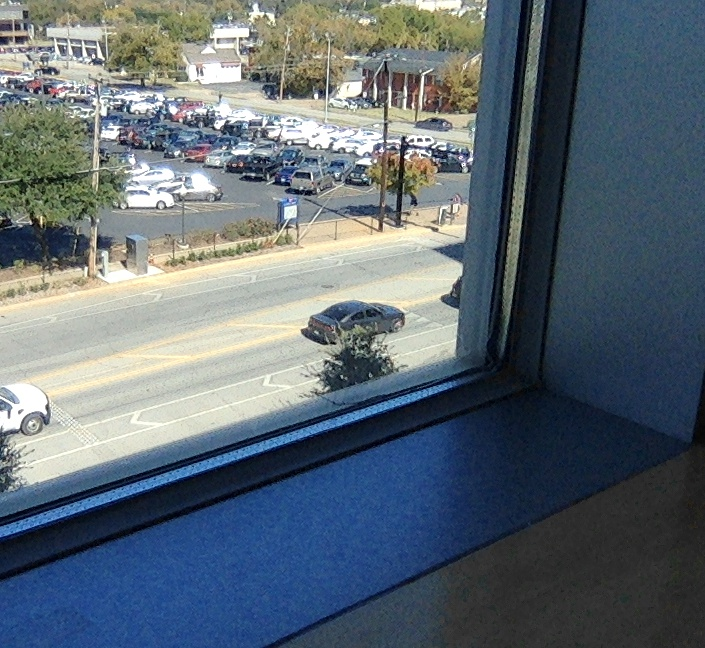car: (300, 300, 405, 348)
